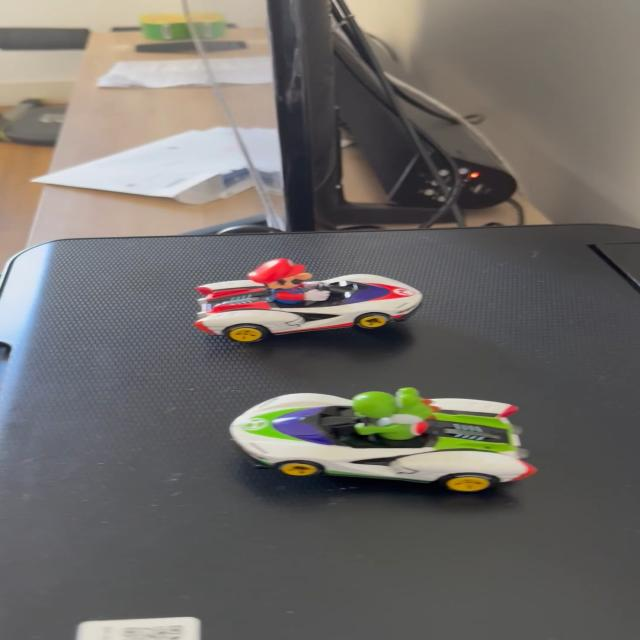mario: (188, 253, 434, 344)
yoshi: (221, 379, 552, 498)
